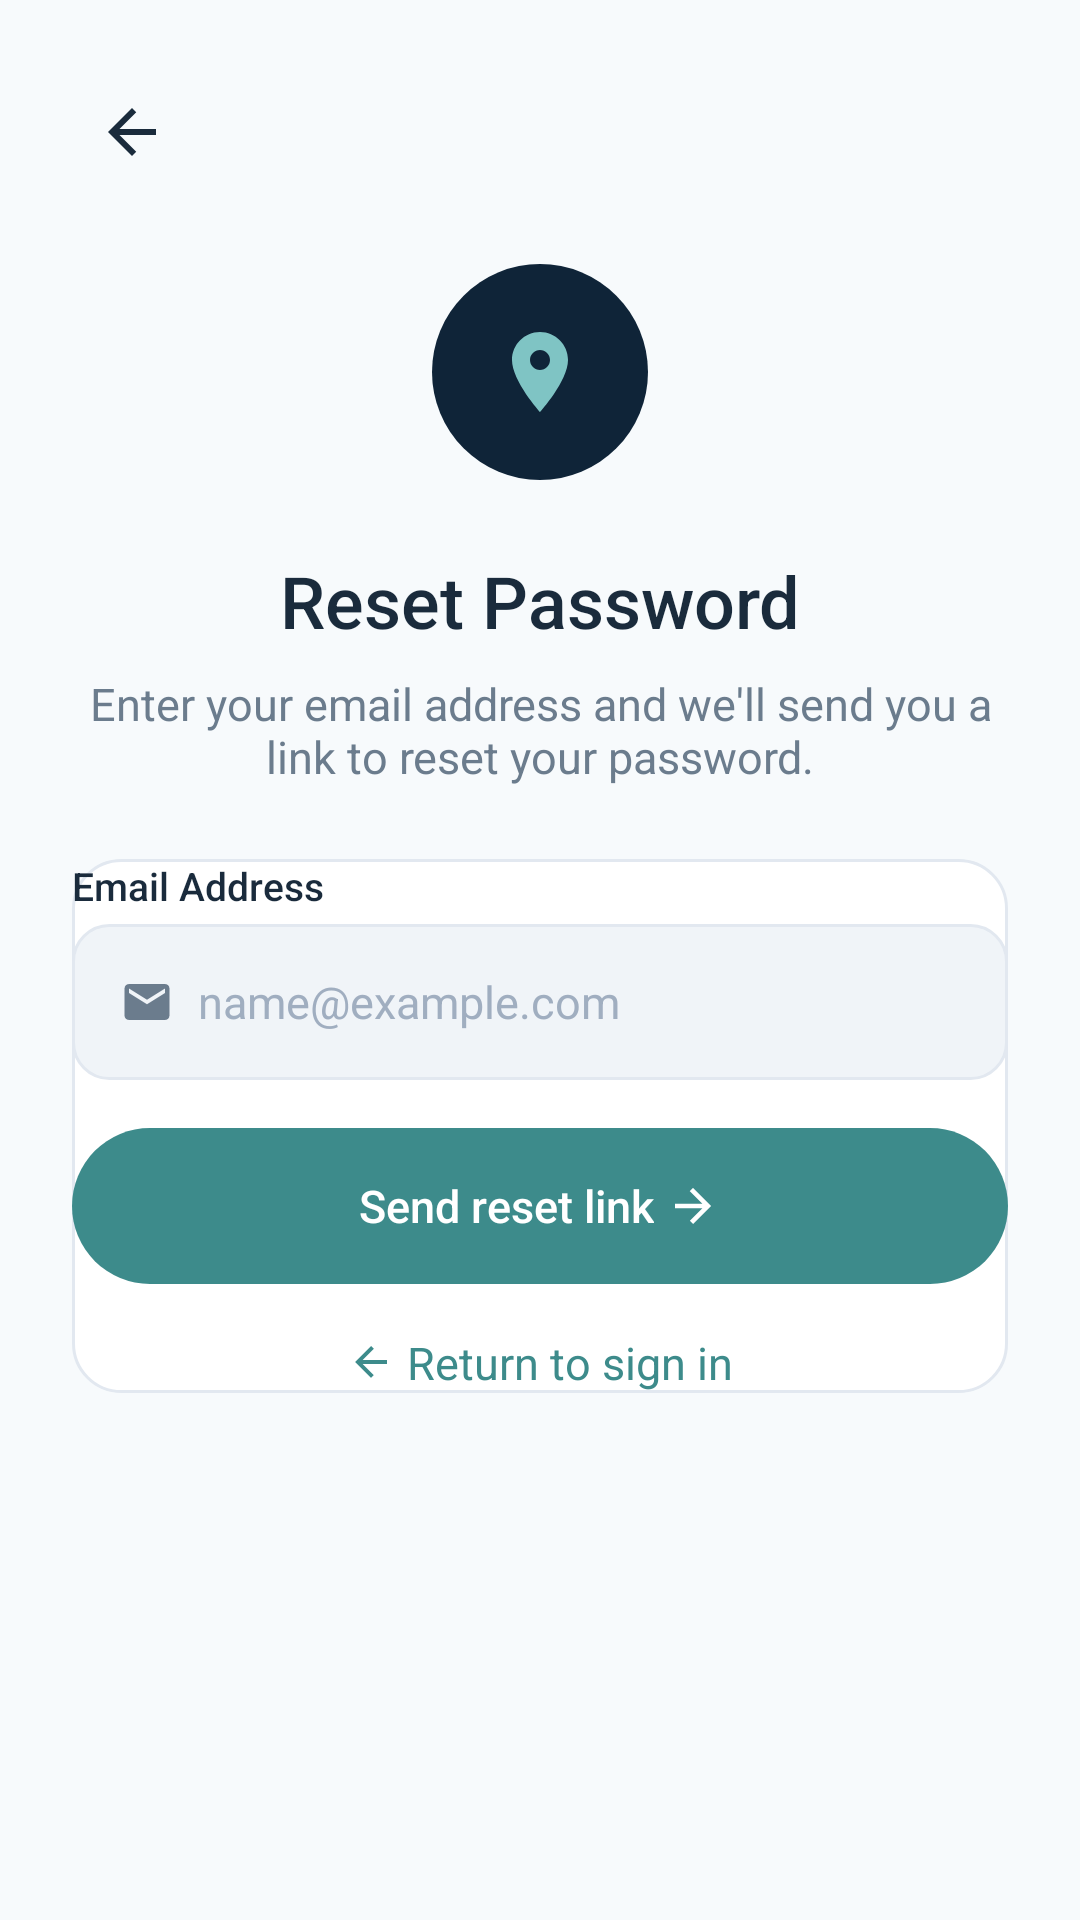

Icons on this 1080px×1920px Android screen, each with its box as (x1, y1, x2, y2):
arrow back: (108, 108, 156, 156), (355, 1346, 387, 1378)
arrow forward: (675, 1188, 711, 1224)
location pin: (512, 332, 568, 412)
